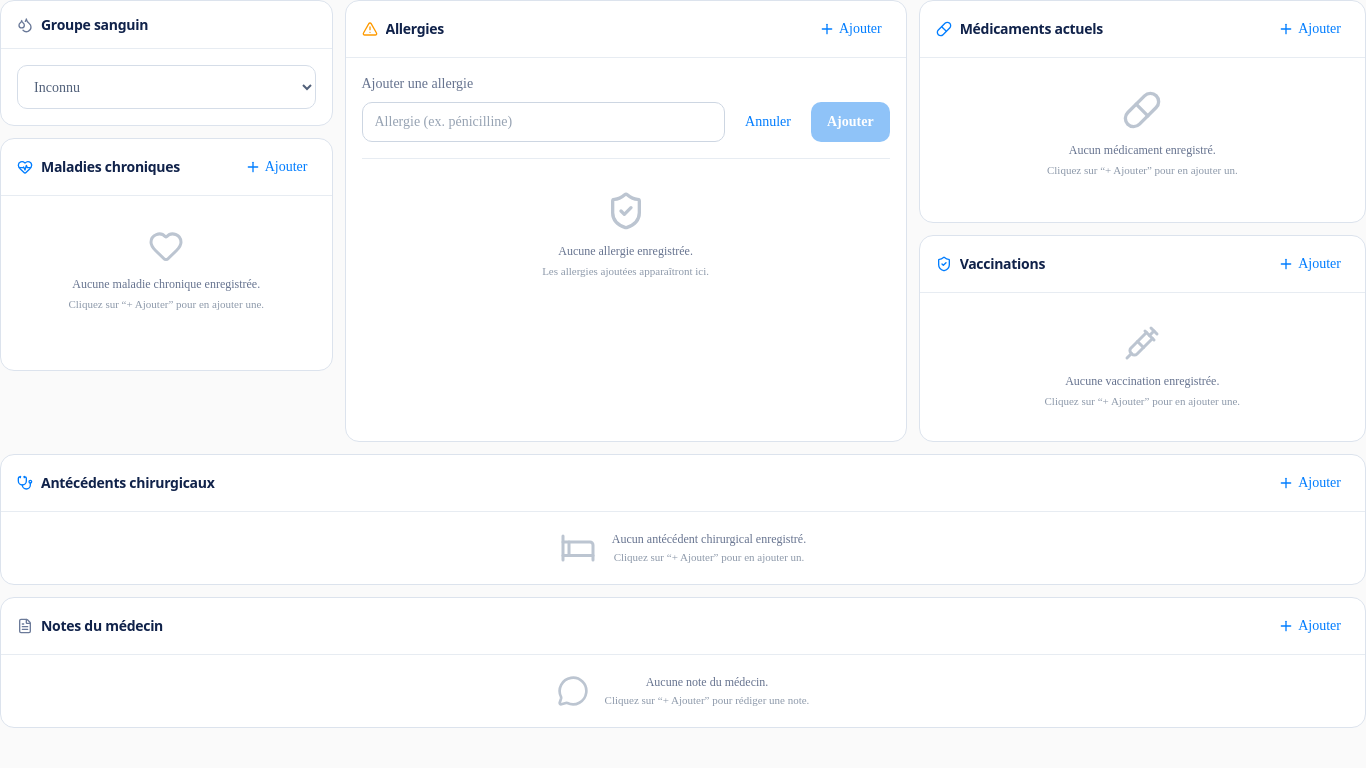
Scenario: InfosTab › opens the allergy editor by default and switches editors from card actions
Expected: the field labelled "Ajouter une allergie" is shown, [362,102,725,142]
Expected: the element "Maladies chroniques" is shown, [0,138,332,371]
Click the button "Ajouter" next to "Maladies chroniques": (276, 167) [237,151,316,183]
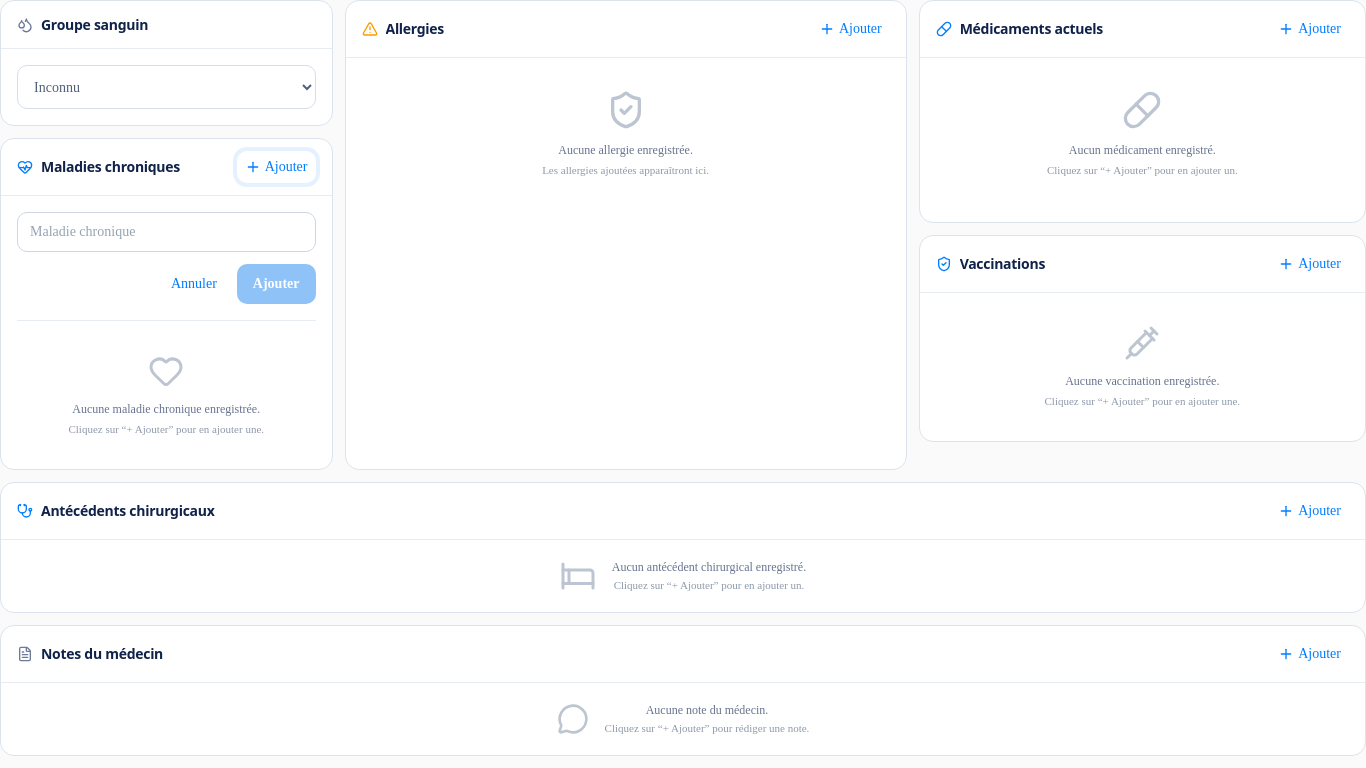
Now the field labelled "Maladie chronique" is shown, box [17,212,316,252]
Now the label labelled "Ajouter une allergie" is gone
